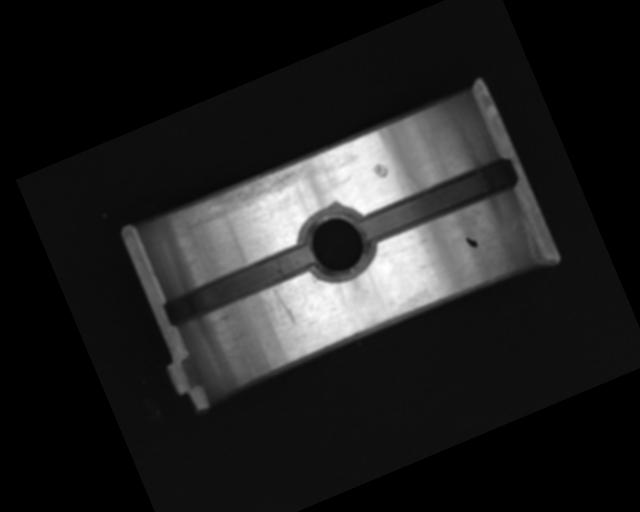blot: (464, 233, 479, 250)
bruise: (371, 160, 391, 181)
gap: (354, 153, 520, 248), (160, 241, 315, 329)
hole: (289, 197, 382, 292)
nick: (265, 281, 299, 331)
scratch: (171, 153, 319, 236)
